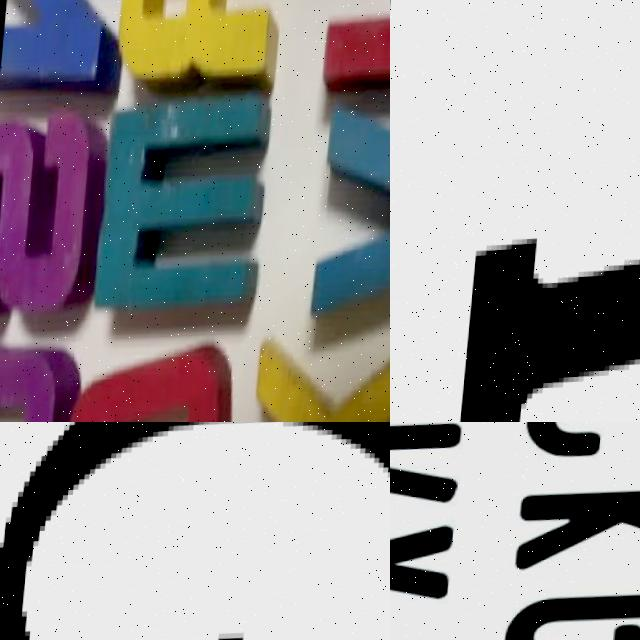C: (518, 422, 640, 476)
G: (0, 422, 390, 640), (500, 591, 640, 640)
J: (451, 0, 640, 422)
K: (515, 483, 640, 585)
M: (91, 86, 273, 328)
O: (61, 345, 243, 422)
R: (390, 422, 467, 523)
V: (315, 117, 390, 324)
X: (242, 343, 390, 422), (390, 518, 457, 618)
